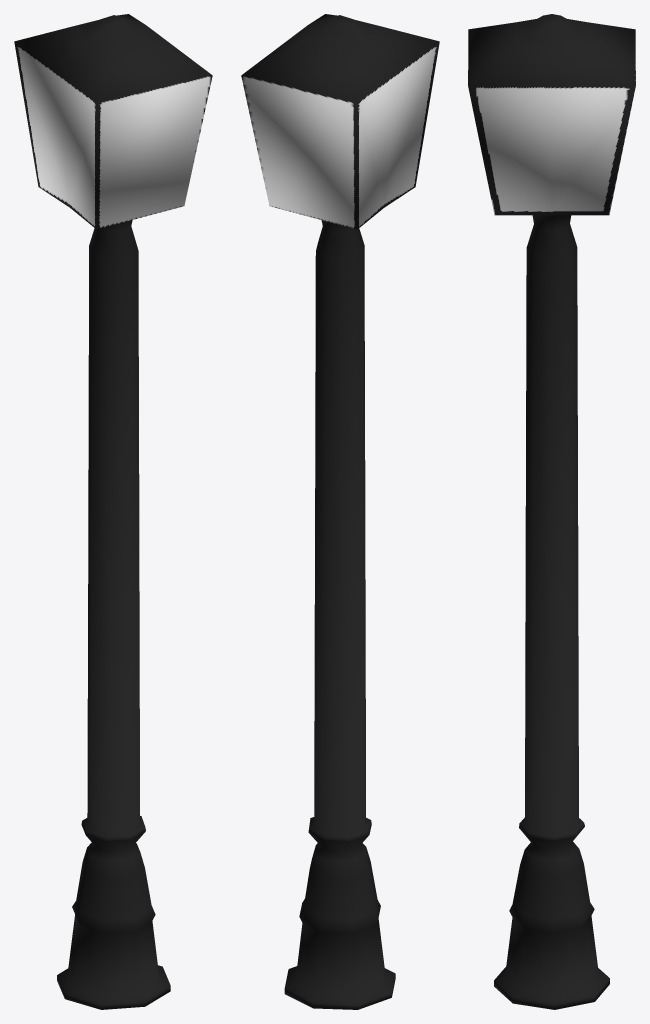
Rendered from streetlamp.fbx.
3 views of the same model, side by side, from view 1: azimuth 30°, elevation 25°; view 2: azimuth 150°, elevation 25°; view 3: azimuth 270°, elevation 25° (orthographic).
Visible parts, largest first — view 1: streetlamp:Mesh; view 2: streetlamp:Mesh; view 3: streetlamp:Mesh.
Part boxes in pixels (box(x1,y1,x2,y2)): streetlamp:Mesh: box(14, 14, 212, 1009); streetlamp:Mesh: box(241, 14, 439, 1009); streetlamp:Mesh: box(468, 14, 635, 1009).
Bounding box in the file's own units: 0.4889 × 3.94 × 0.6199.
